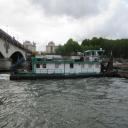tugboat: (9, 50, 119, 82)
